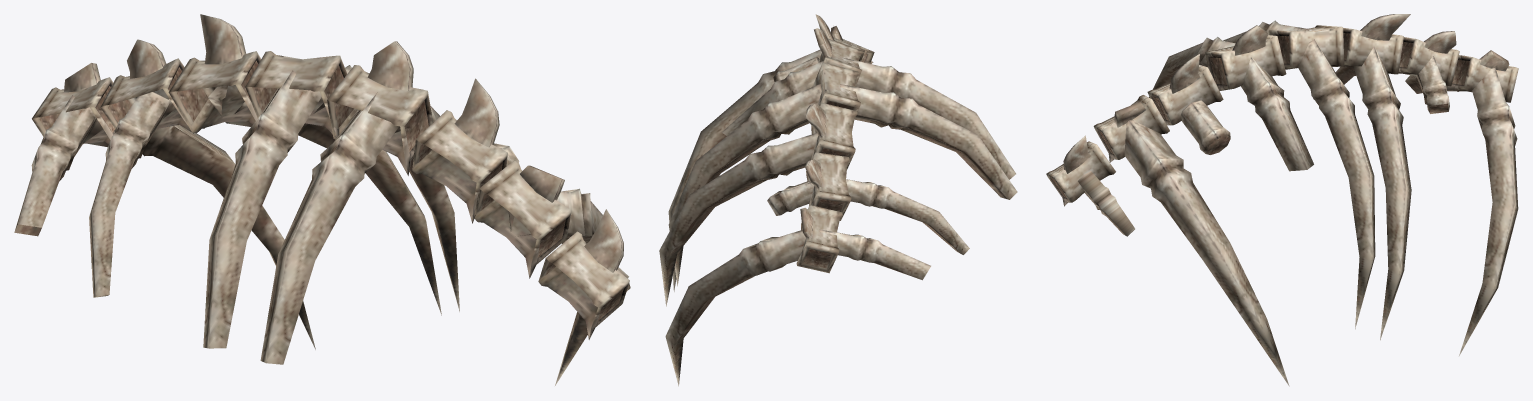
Rendered from Item_map35_gt_01.FBX.
3 views of the same model, side by side, from view 1: azimuth 30°, elevation 25°; view 2: azimuth 150°, elevation 25°; view 3: azimuth 270°, elevation 25° (orthographic). The views are drawn at different scales.
Visible parts, largest first — view 1: Item_map35_gt_01; view 2: Item_map35_gt_01; view 3: Item_map35_gt_01.
Boxes of the visible parts, left/top/right/bottom form: Item_map35_gt_01: left=14, top=14, right=630, bottom=385; Item_map35_gt_01: left=659, top=14, right=1017, bottom=386; Item_map35_gt_01: left=1046, top=14, right=1518, bottom=386.
Size of the model in its own units: 627 by 734 by 533.
Materials: 1 (1 with a texture image).
